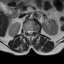CCS_normal: (29, 28, 31, 36)
LFS_stenosis: (33, 29, 35, 34)
LLS_normal: (31, 28, 33, 35)
RFS_normal: (25, 29, 28, 34)
RLS_normal: (28, 28, 29, 35)
